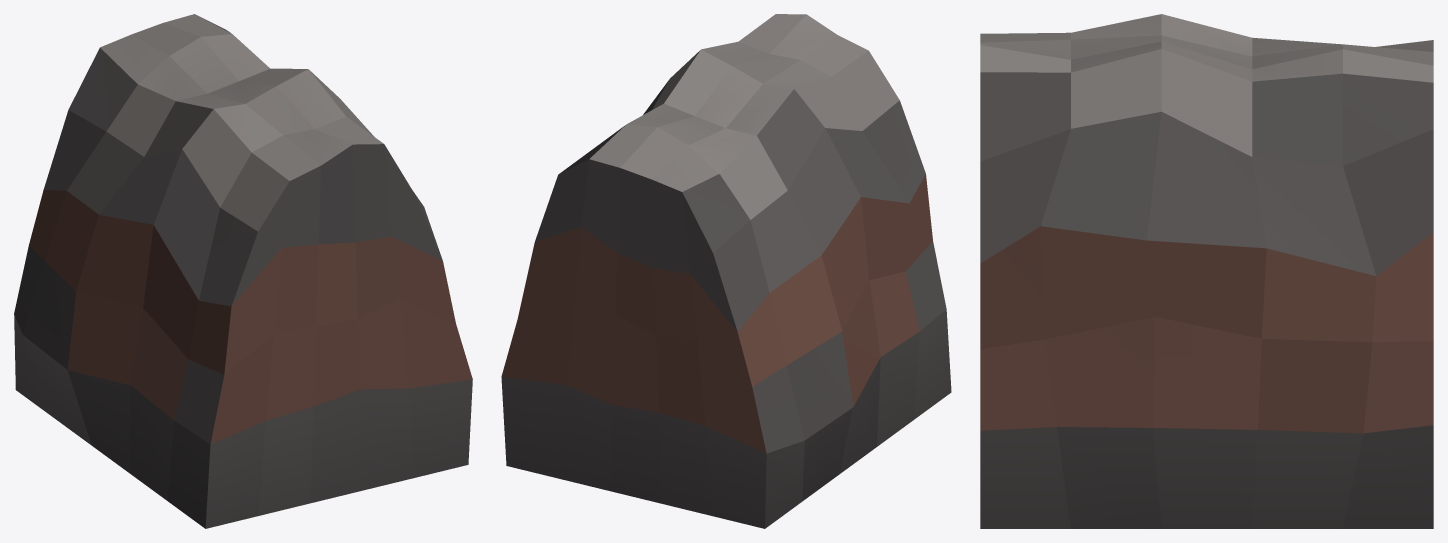
The model's file is roca_recta_2.glb.
The picture shows the model from 3 angles, left to right: view 1: azimuth 30°, elevation 25°; view 2: azimuth 150°, elevation 25°; view 3: azimuth 270°, elevation 25°; orthographic projection. The views are drawn at different scales.
Visible parts, largest first — view 1: propforge-cuartos-roca_recta; view 2: propforge-cuartos-roca_recta; view 3: propforge-cuartos-roca_recta.
Part boxes in pixels (x1,y1,x2,y2): propforge-cuartos-roca_recta: (14,14,472,528); propforge-cuartos-roca_recta: (501,14,951,528); propforge-cuartos-roca_recta: (980,14,1433,528).
Size of the model in its own units: 0.885 by 1.05 by 1.
